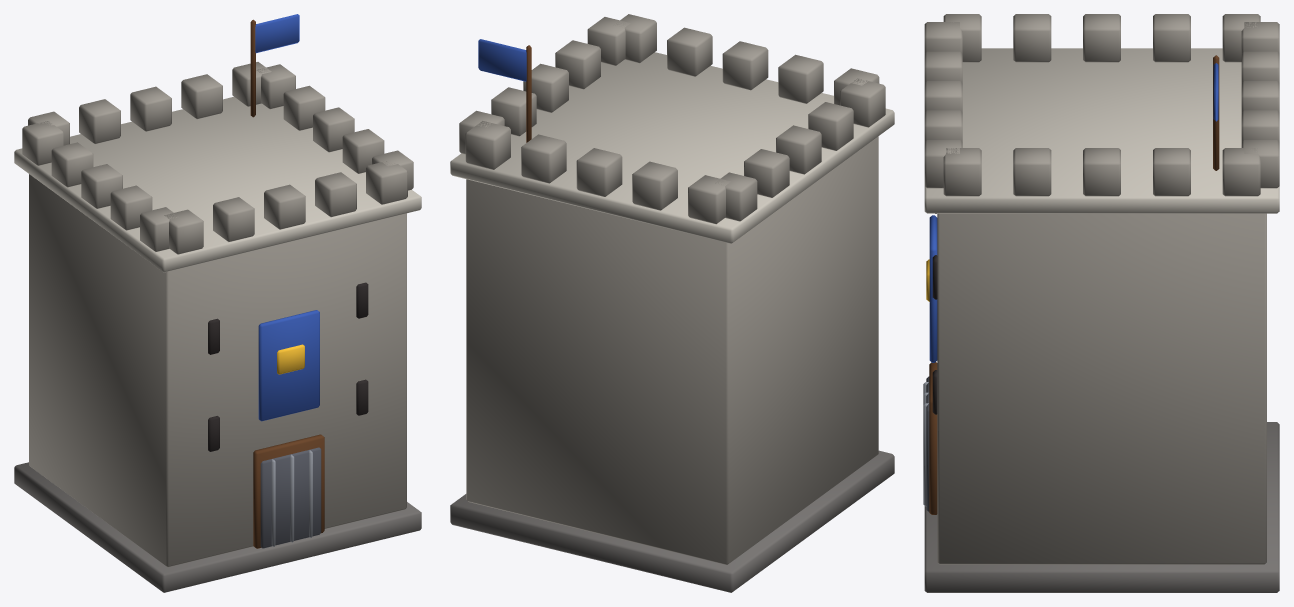
File: B_MedCastleKeep.fbx
3 renders of one model, left to right at view 1: azimuth 30°, elevation 25°; view 2: azimuth 150°, elevation 25°; view 3: azimuth 270°, elevation 25°, orthographic. The views are drawn at different scales.
Parts seen in each view (by area): view 1: M_CastleKeep; view 2: M_CastleKeep; view 3: M_CastleKeep.
Part boxes in pixels (<box>): M_CastleKeep: <box>14,14,421,592</box>; M_CastleKeep: <box>450,14,894,592</box>; M_CastleKeep: <box>923,14,1279,592</box>.
Size of the model in its own units: 5.6 by 8.9 by 5.62.
Materials: 1 (1 with a texture image).
